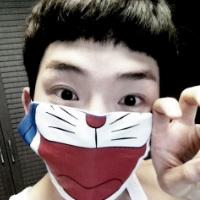OK: (35, 59, 171, 195)
